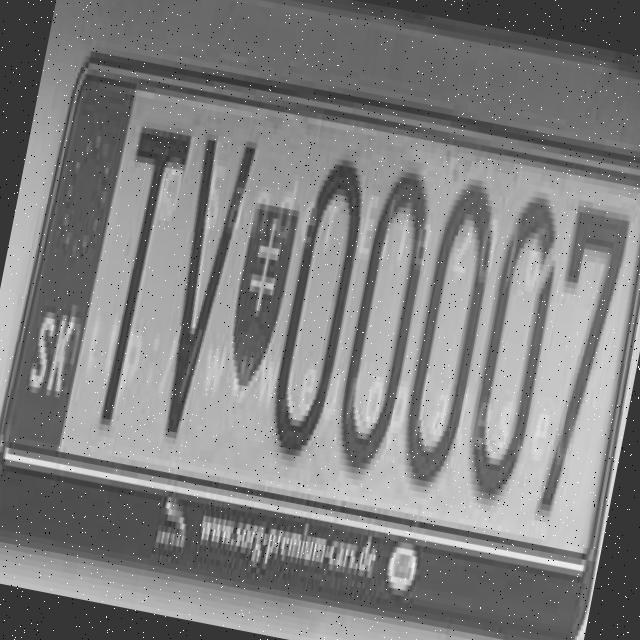EU: (2, 71, 640, 553)
Slovaquie: (0, 80, 136, 456)
